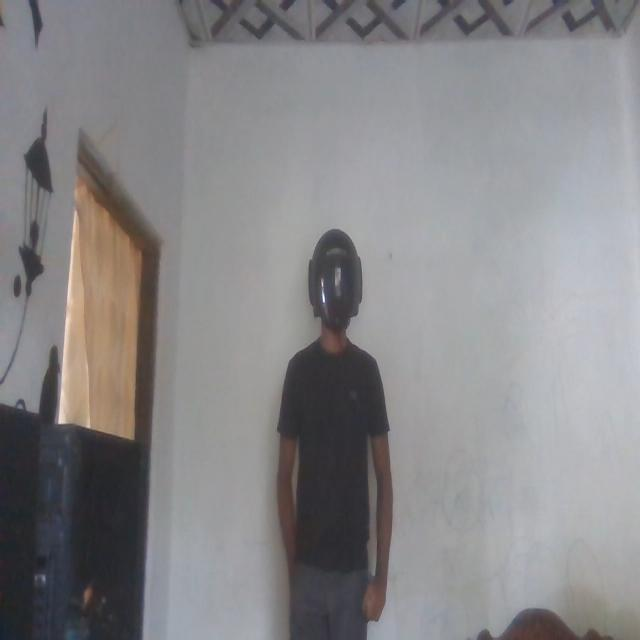Helmet_Wearer: (298, 218, 364, 364)
Person: (280, 223, 398, 640)
